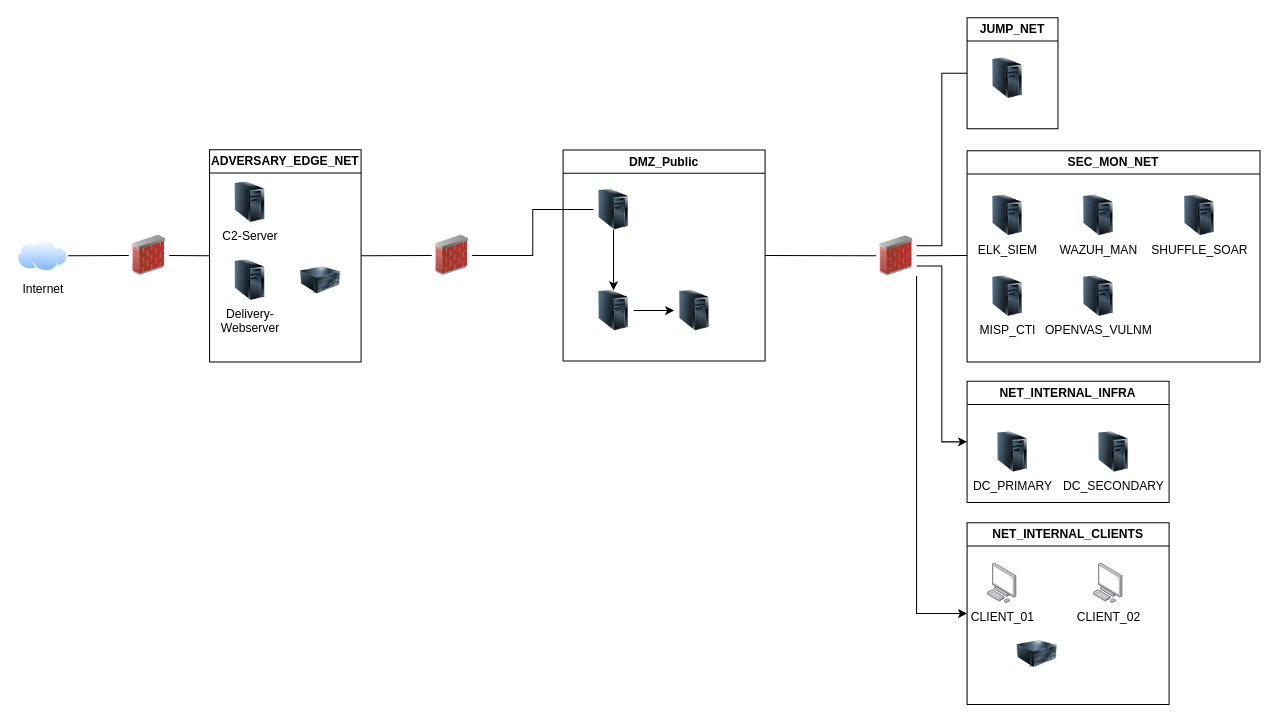
This 1278x722 diagram has some shape labels left out. The centre of each missing label's shape, as x and y in pixels:
"Attackbox" goes at point 320,280.
"Database" goes at point 694,310.
"FW_EDGE" goes at point 148,255.
"FW_INNER" goes at point 896,255.
"FW_PERIMETER" goes at point 451,255.
"Insider_Attackbox" goes at point 1037,653.
"JMP_HOST" goes at point 1007,78.
"Reverse Proxy + WAF" goes at point 613,209.
"Webserver" goes at point 613,310.
